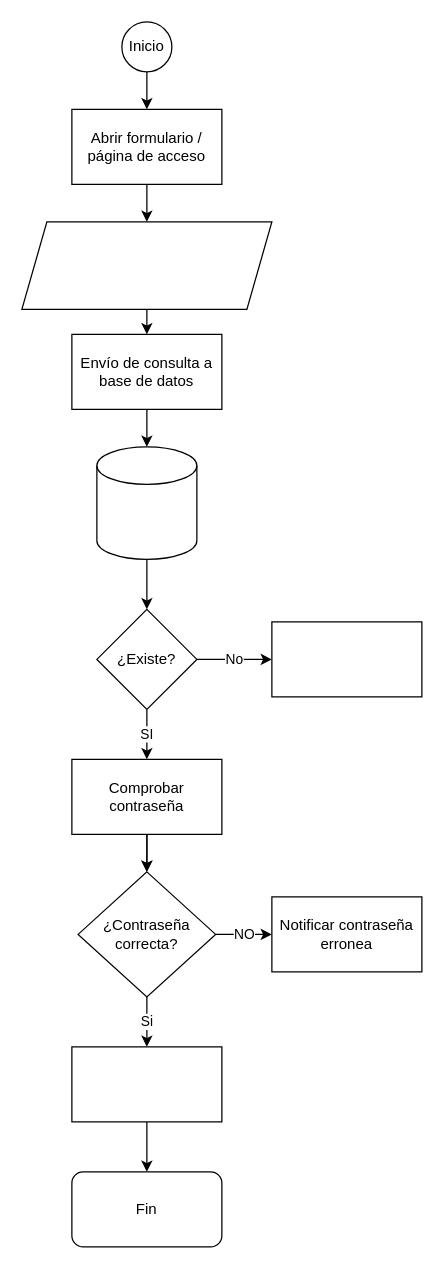
Image size: 444x1269. Some labels were removed from this diagram. Here are the shapes that lost their labels. From the top down, the centre of each, then its label:
At point (146, 265): "Solicitud de datos de registro (Usuario y contraseña)".
At point (146, 502): "Verificación de usuario".
At point (346, 659): "Notificar usuario no existente".
At point (146, 1084): "Ha iniciado sesión".
